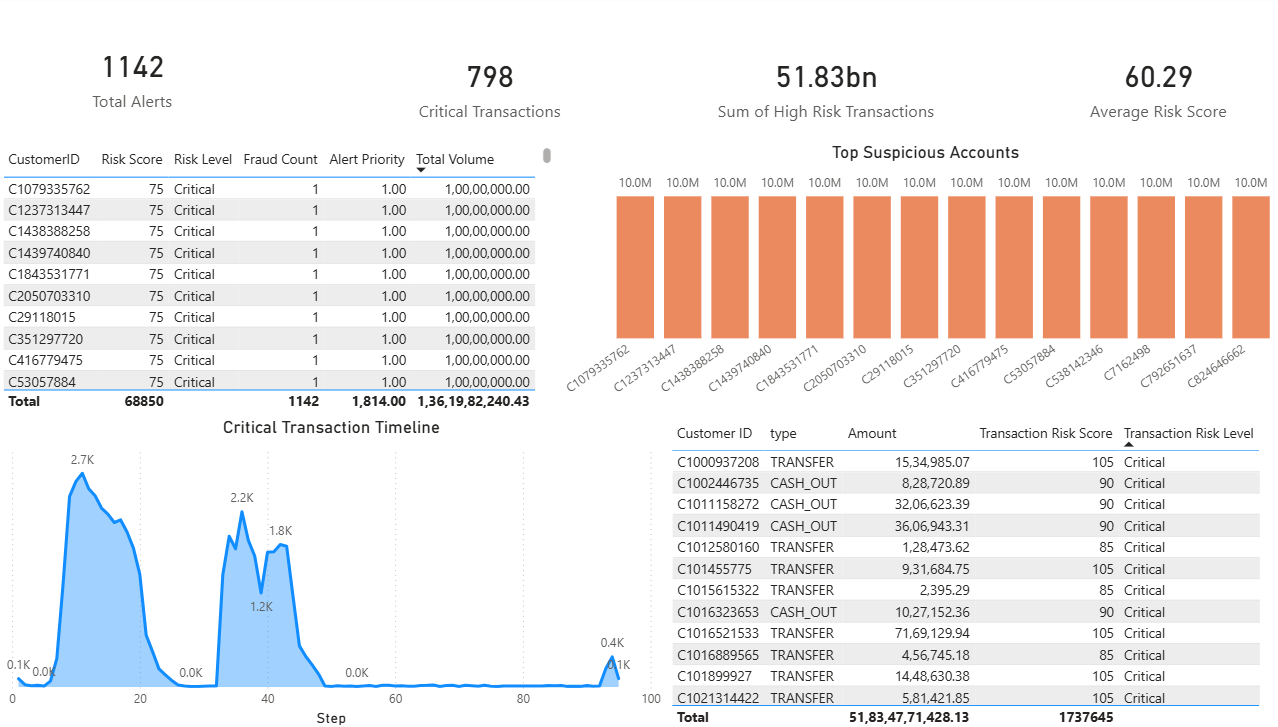

The dashboard page shown, as its layout file describes it:
{"tool":"powerbi","page":{"name":"Page 2","canvas":[1280,720],"ordinal":1},"visuals":[{"type":"card","fields":{"Values":["CountNonNull(AlertQueue.CustomerID)"]},"box":[0,0,264.8,157.8],"z":1},{"type":"card","fields":{"Values":["HighRiskTransactions.Critical Transactions"]},"box":[349.9,9.6,264.8,157.8],"z":2},{"type":"card","fields":{"Values":["Sum(HighRiskTransactions.amount)"]},"box":[679.2,9.6,264.8,157.8],"z":3},{"type":"card","fields":{"Values":["Avg(AlertQueue.RiskScore)"]},"box":[1004.5,9.6,264.8,157.8],"z":4},{"type":"tableEx","fields":{"Values":["AlertQueue.CustomerID","Sum(AlertQueue.RiskScore)","AlertQueue.RiskLevel","Sum(AlertQueue.FraudCount)","Sum(AlertQueue.AlertPriority)","Sum(AlertQueue.TotalVolume)"]},"box":[0,144.1,547.5,267.6],"z":6},{"type":"clusteredColumnChart","title":"Top Suspicious Accounts","fields":{"Y":["Sum(HighRiskTransactions.amount)"],"Category":["HighRiskTransactions.nameOrig"]},"box":[547.8,143.1,721.5,269],"z":7},{"type":"tableEx","fields":{"Values":["HighRiskTransactions.nameOrig","HighRiskTransactions.type","Sum(HighRiskTransactions.amount)","Sum(HighRiskTransactions.TransactionRiskScore)","HighRiskTransactions.TransactionRiskLevel"]},"box":[654.5,411.7,623,308.7],"z":8},{"type":"lineChart","title":"Critical Transaction Timeline","fields":{"Category":["HighRiskTransactions.step"],"Y":["CountNonNull(HighRiskTransactions.step)"]},"box":[0,411.7,654.5,308.7],"z":9}]}

Visuals, with their boxes in screenshot pixels (x1, y1, x2, y2), scaled from the page's 1280x720 canvas onto the 1278x727 screenshot:
card - CountNonNull(AlertQueue.CustomerID): {"x1": 0, "y1": 0, "x2": 264, "y2": 159}
card - HighRiskTransactions.Critical Transactions: {"x1": 349, "y1": 10, "x2": 614, "y2": 169}
card - Sum(HighRiskTransactions.amount): {"x1": 678, "y1": 10, "x2": 943, "y2": 169}
card - Avg(AlertQueue.RiskScore): {"x1": 1003, "y1": 10, "x2": 1267, "y2": 169}
tableEx - AlertQueue.CustomerID x Sum(AlertQueue.RiskScore): {"x1": 0, "y1": 146, "x2": 547, "y2": 416}
"Top Suspicious Accounts" clusteredColumnChart: {"x1": 547, "y1": 144, "x2": 1267, "y2": 416}
tableEx - HighRiskTransactions.nameOrig x HighRiskTransactions.type: {"x1": 653, "y1": 416, "x2": 1276, "y2": 726}
"Critical Transaction Timeline" lineChart: {"x1": 0, "y1": 416, "x2": 653, "y2": 726}
